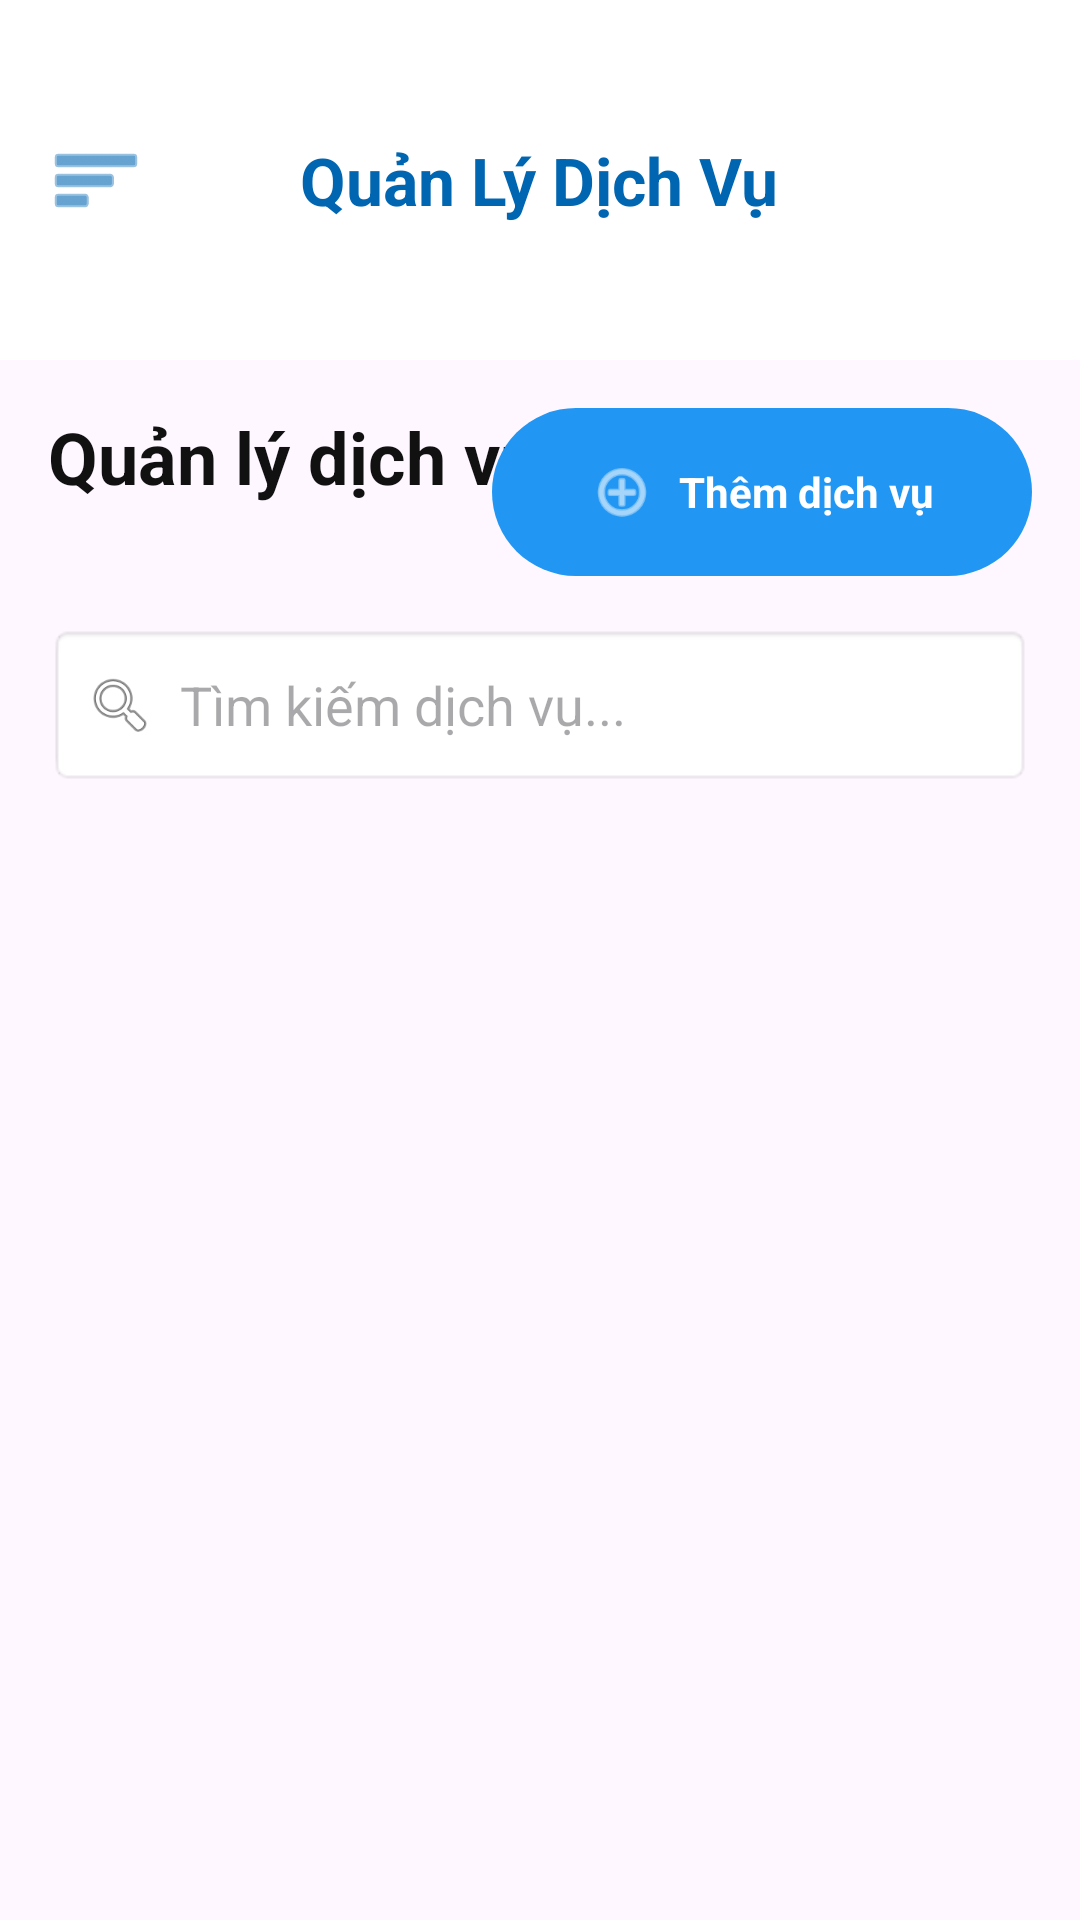

Icons on this 1080x1920 Android screen, each with its box as {"left": x1, "top": y1, "right": x2, "bottom": y2}:
add: {"left": 597, "top": 468, "right": 647, "bottom": 517}
Menu: {"left": 55, "top": 154, "right": 137, "bottom": 207}
search: {"left": 93, "top": 679, "right": 147, "bottom": 732}
